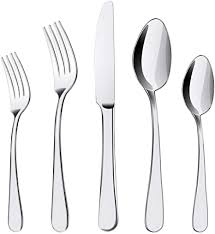Lyzka: (131, 17, 171, 93), (180, 55, 215, 119)
Noz: (94, 1, 117, 107)
Widelec: (42, 20, 80, 93), (2, 50, 33, 118)
